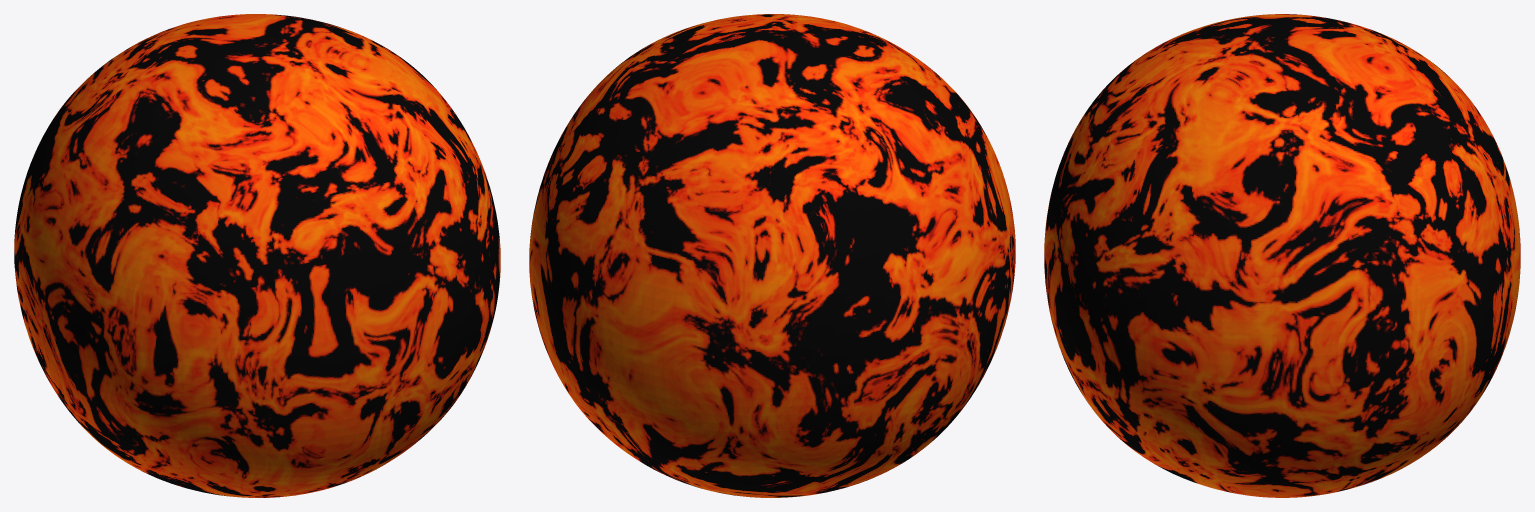
The model's file is FireBall.obj.
3 renders of one model, left to right at view 1: azimuth 30°, elevation 25°; view 2: azimuth 150°, elevation 25°; view 3: azimuth 270°, elevation 25°, orthographic.
Visible parts, largest first — view 1: FireBall; view 2: FireBall; view 3: FireBall.
Boxes of the visible parts, left/top/right/bottom form: FireBall: left=14, top=14, right=500, bottom=497; FireBall: left=529, top=14, right=1015, bottom=497; FireBall: left=1044, top=14, right=1520, bottom=497.
Bounding box in the file's own units: 1.68 × 1.68 × 1.68.
1 material, 1 textured.
